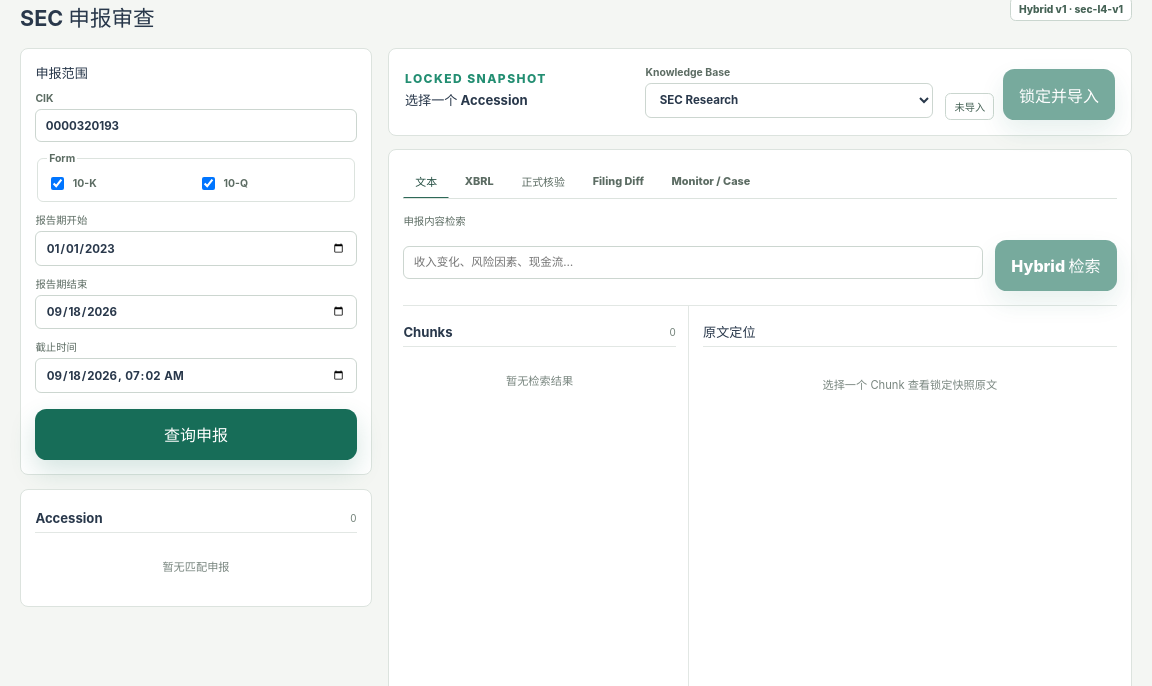
SecWorkbench › runs the CIK to locked snapshot to chunk reading journey
Step 1. Click the button "查询申报" → (196, 434), box [35, 408, 357, 460]
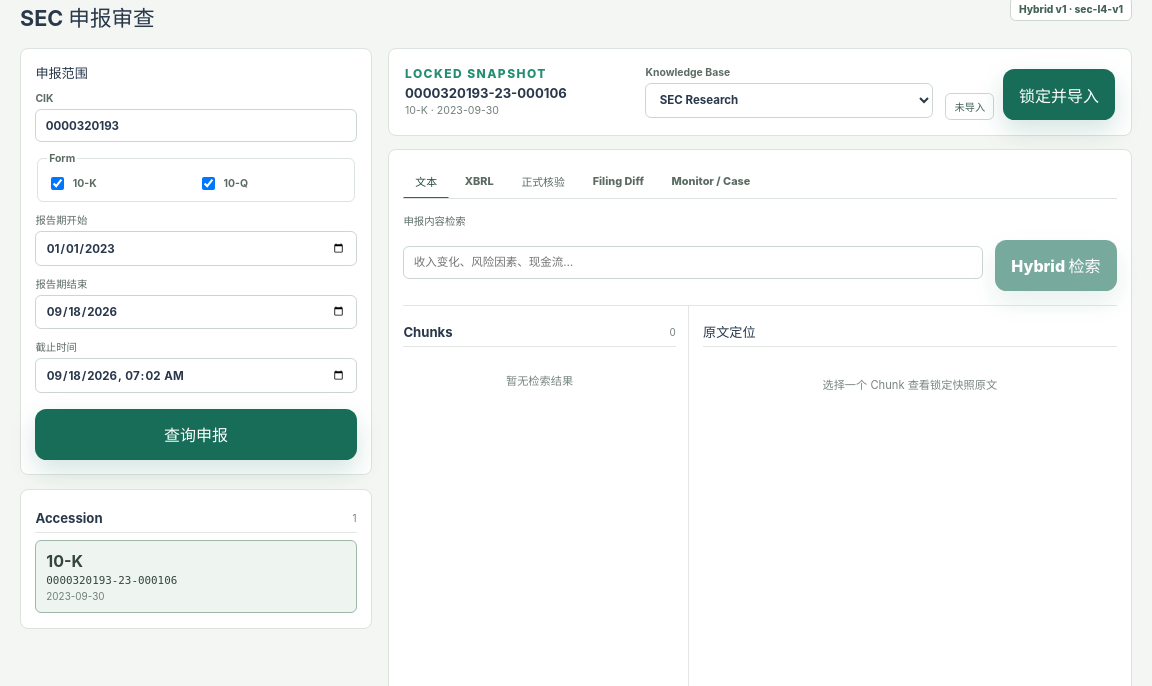
Now the text "0000320193-23-000106" is shown 2 times, box [46, 574, 177, 587]; [405, 85, 567, 101]
Step 2. Click the button "锁定并导入" → (1059, 95), box [1003, 69, 1115, 120]
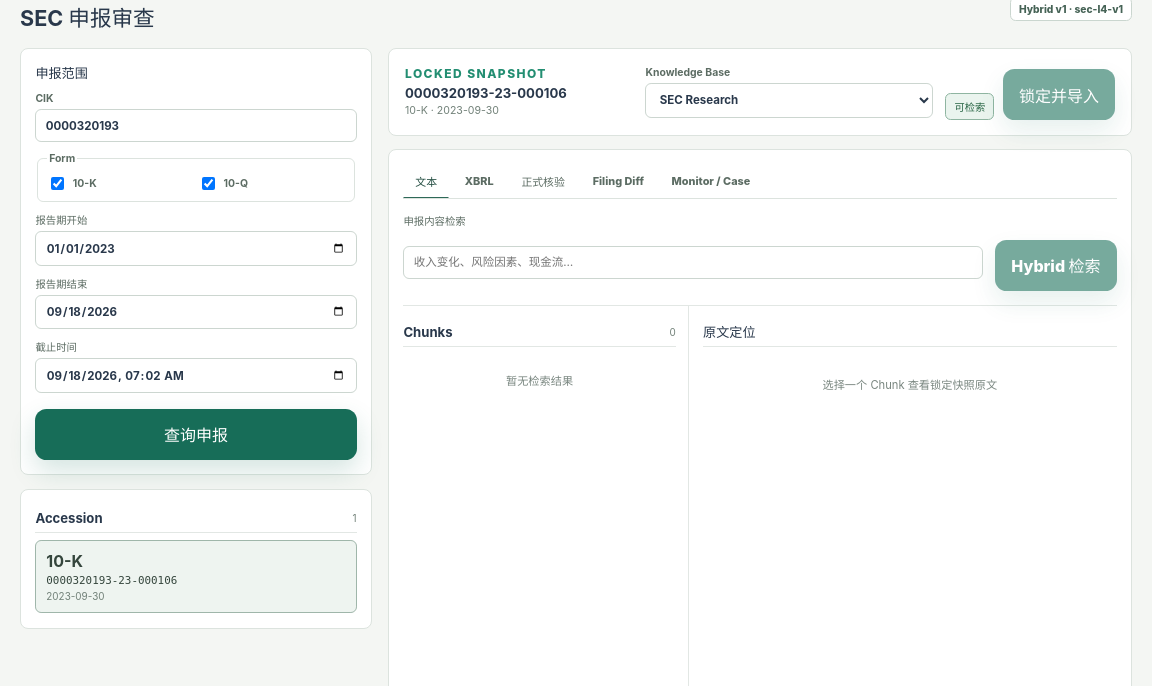
Now the text "可检索" is shown, box [946, 93, 994, 120]
Step 3. Type "net sales" into the field labelled "申报内容检索" → (693, 262), box [403, 246, 983, 279]
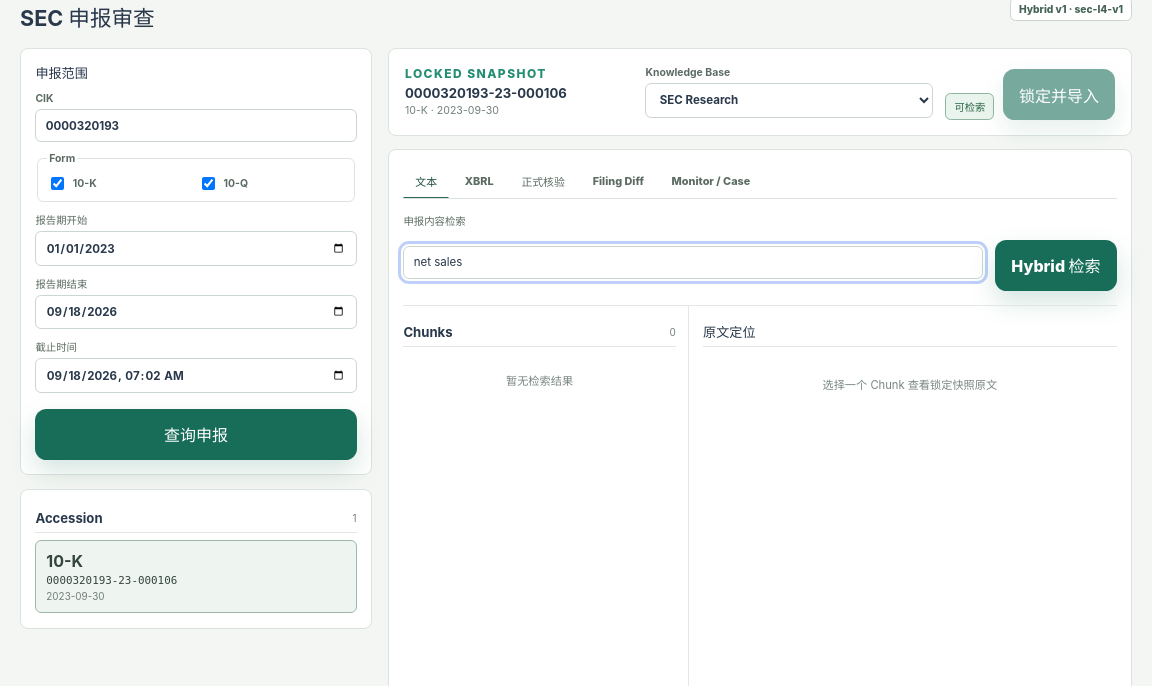
Step 4. Click the button "Hybrid 检索" → (1056, 265), box [995, 240, 1117, 291]
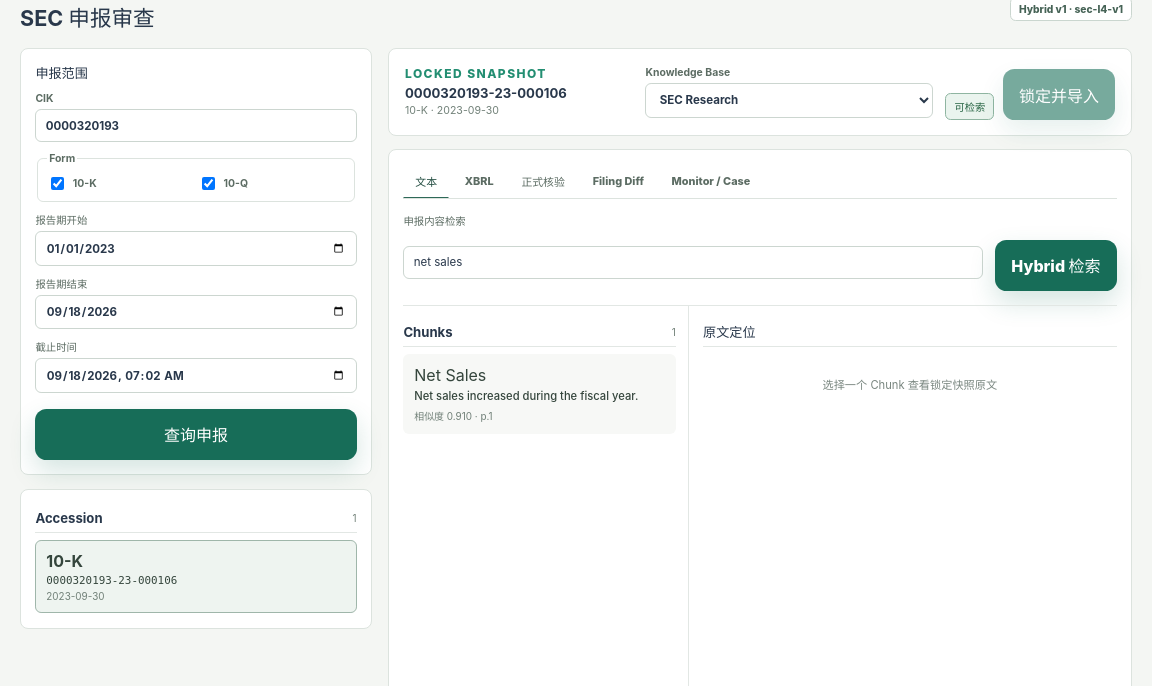
Step 5. Click the button "Net Sales" → (540, 394), box [403, 354, 676, 434]
(page scrolled)
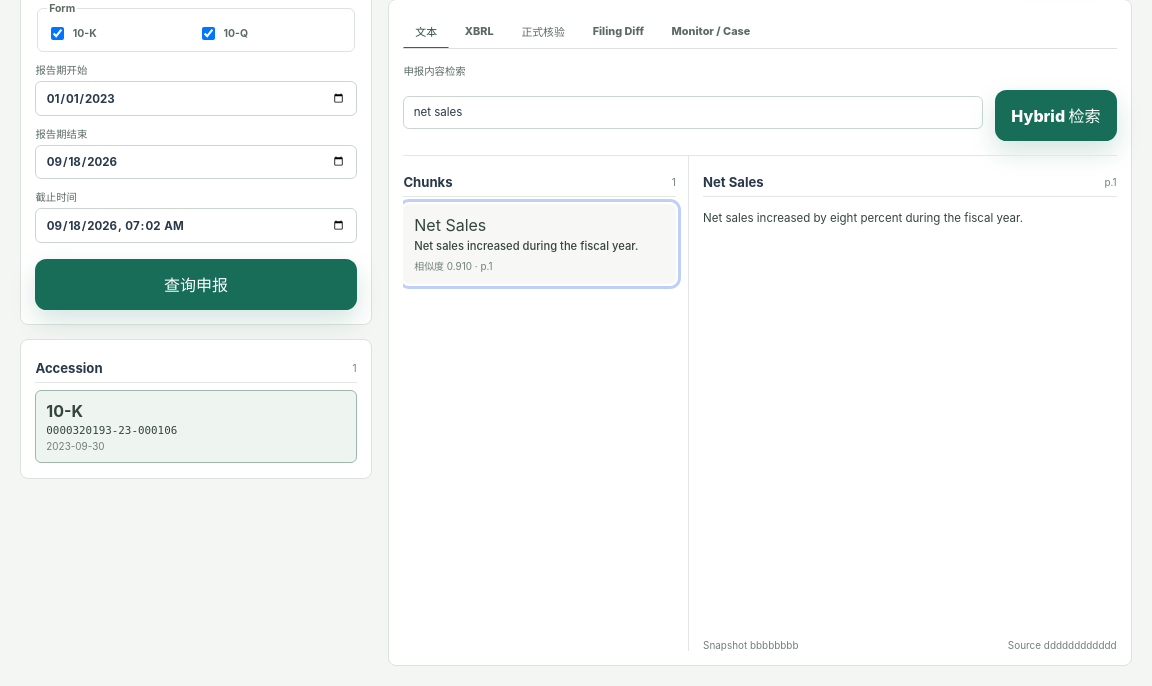
Now the text "Net sales increased by eight percent during the fiscal year." is shown, box [703, 211, 1023, 225]
